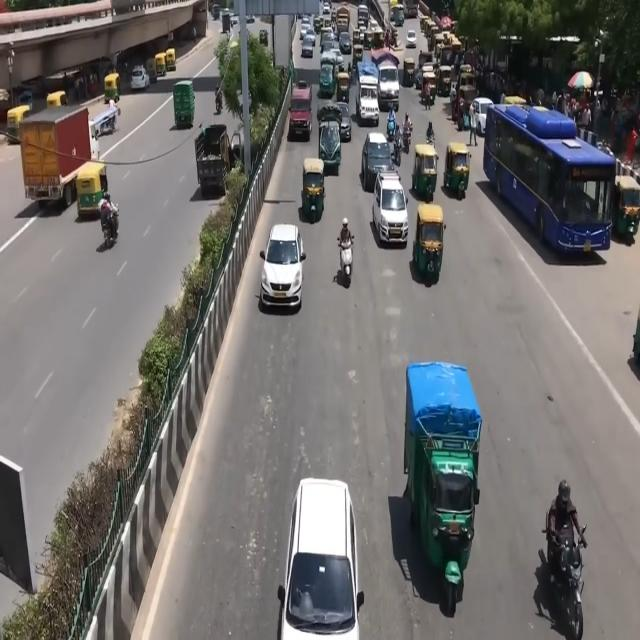auto: (405, 361, 484, 603), (412, 202, 446, 283), (76, 161, 109, 218), (612, 172, 640, 239), (412, 143, 439, 203), (444, 141, 471, 200), (301, 160, 326, 222), (317, 120, 342, 172), (6, 105, 31, 144), (420, 66, 438, 104), (104, 72, 121, 103), (336, 70, 350, 102), (46, 90, 68, 110), (154, 52, 168, 77), (145, 56, 158, 82), (165, 48, 176, 72)
bike-auto: (540, 517, 586, 639), (337, 217, 354, 276), (100, 200, 120, 248), (392, 131, 403, 166), (402, 119, 413, 152), (215, 88, 222, 114)
